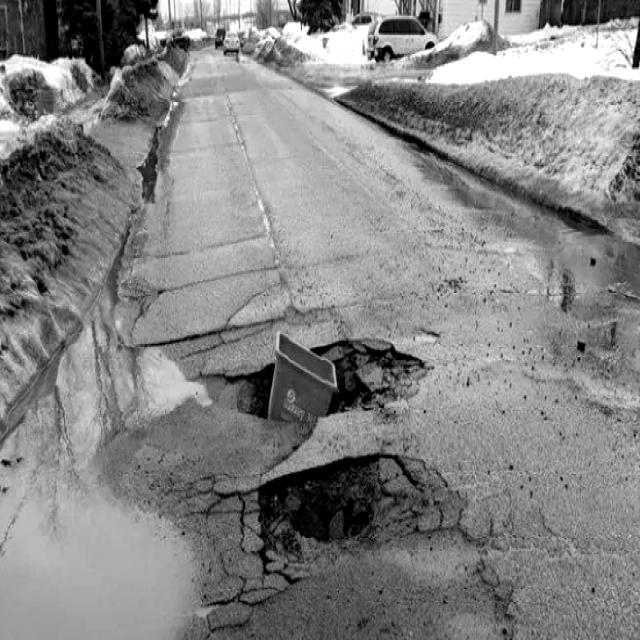pathole: (208, 451, 441, 637), (325, 340, 427, 409), (238, 364, 274, 416)
